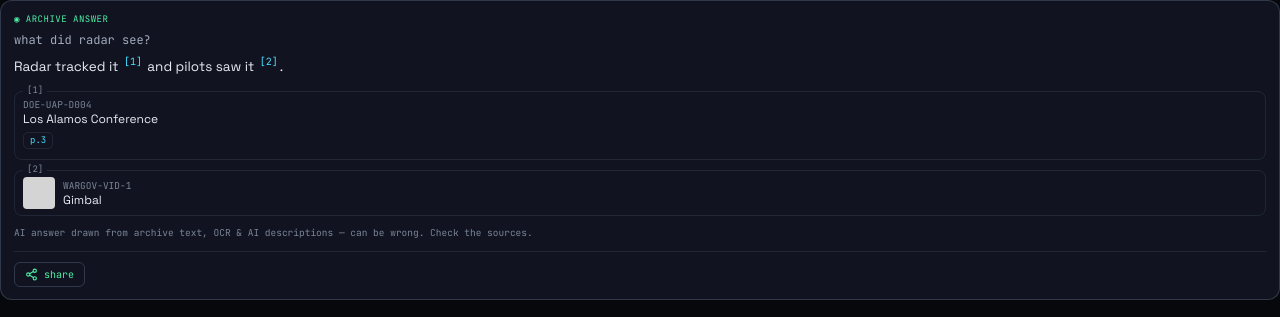
AskAnswer › a failed share POST says so and keeps the share button
Click the button "share" at [50, 274], box [14,262,85,287]
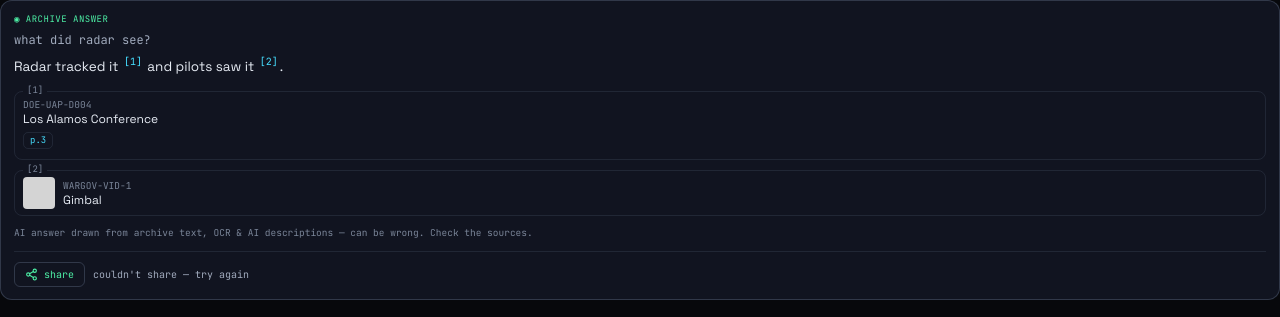
Result: the text "couldn't share — try again" is shown at [93,267,249,282]
